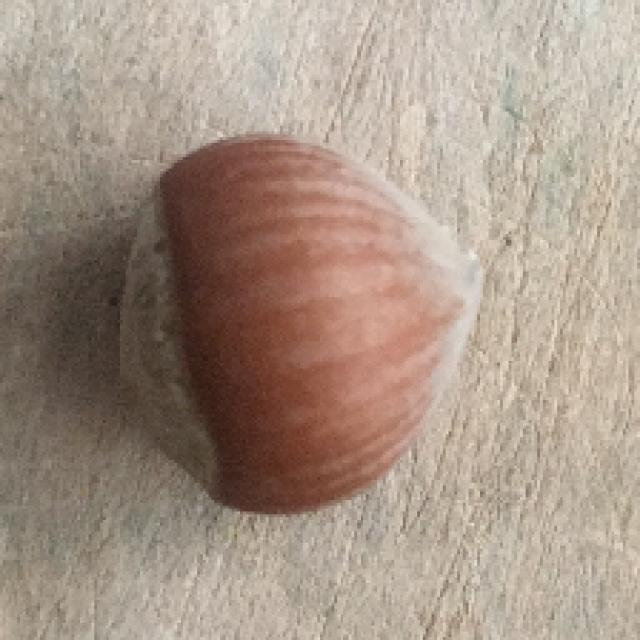QualityHazelnut: (114, 131, 490, 520)
